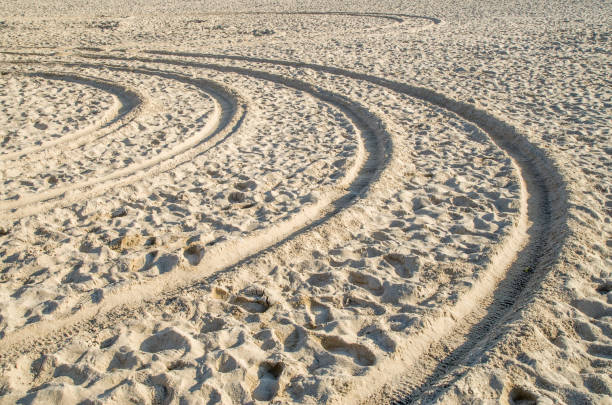vehicle_track: (150, 51, 566, 399), (2, 69, 390, 347), (277, 61, 561, 362), (0, 66, 245, 220), (0, 71, 145, 161)
